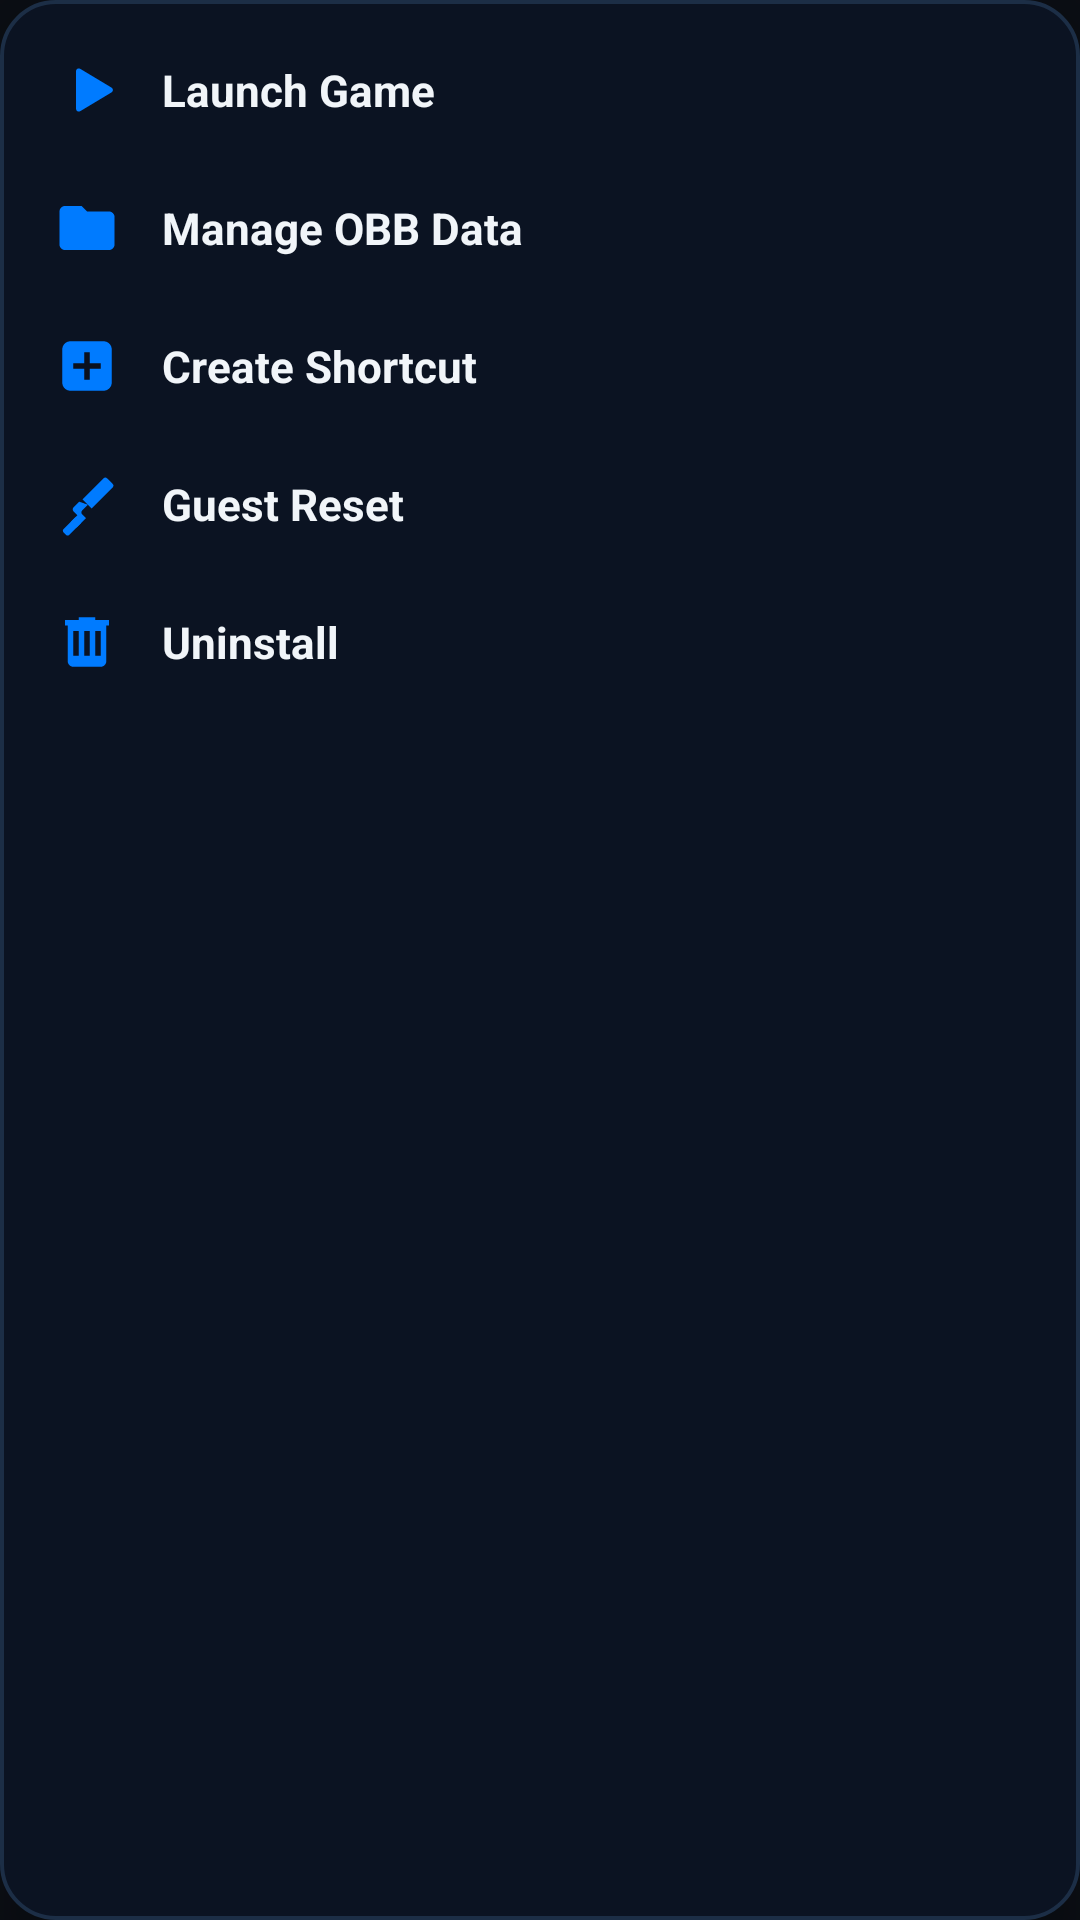

Where icons sit on this 1080px×1920px app screen, as bbox=(x1, y1, x2, y2):
folder: bbox=(59, 206, 115, 250)
play: bbox=(76, 68, 113, 112)
trash: bbox=(65, 617, 109, 667)
